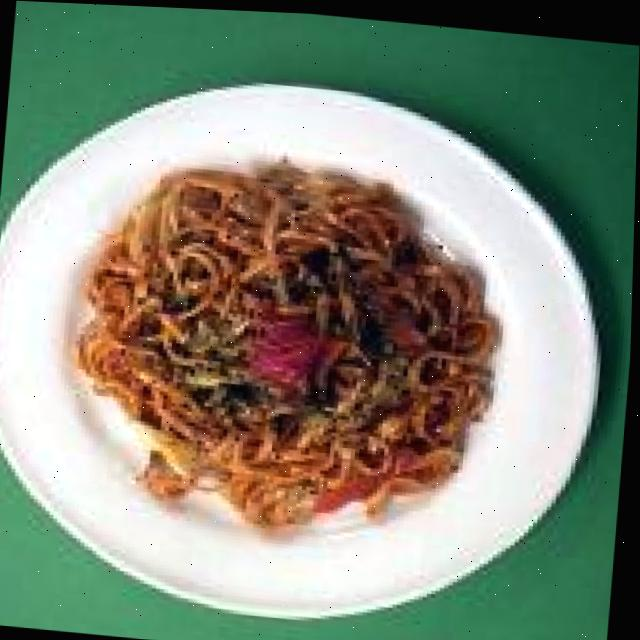面条主食: (0, 50, 635, 640)
